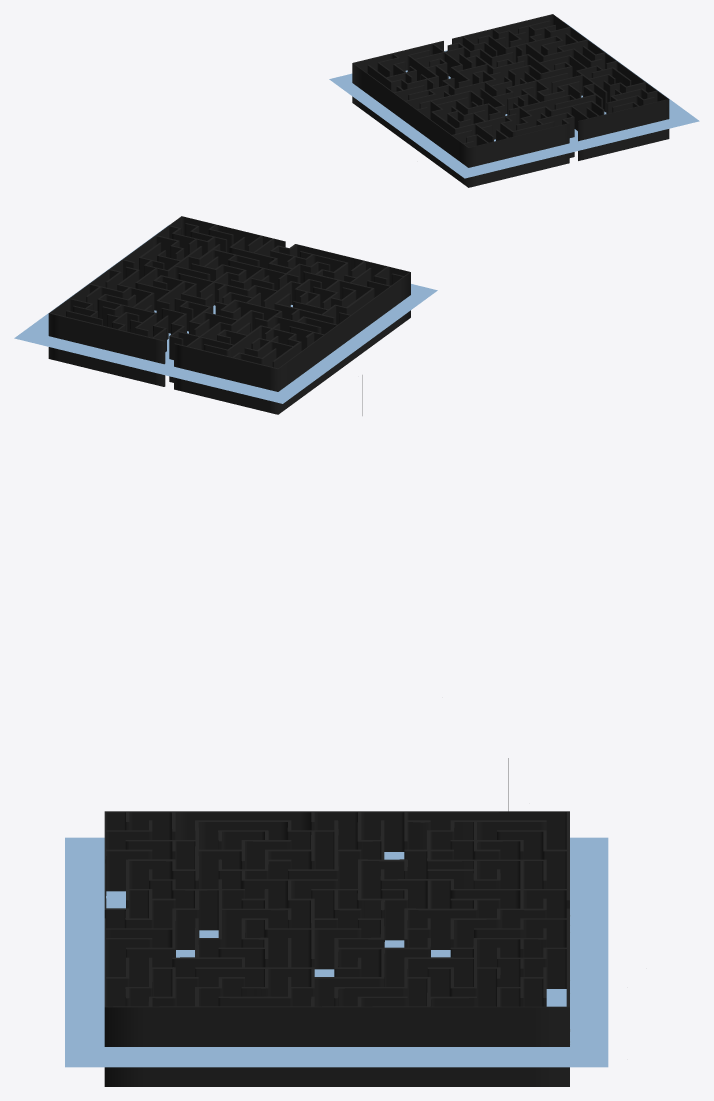
The model's file is Maze4.fbx.
3 renders of one model, top to bottom at view 1: azimuth 30°, elevation 25°; view 2: azimuth 150°, elevation 25°; view 3: azimuth 270°, elevation 25°, orthographic. The views are drawn at different scales.
Parts seen in each view (by area): view 1: Curve, Curve.004, Plane; view 2: Curve, Curve.004, Plane; view 3: Curve.004, Curve, Plane.
Part boxes in pixels (<box>): Curve: <box>352,41,581,187</box>; Curve.004: <box>452,14,669,160</box>; Plane: <box>329,22,699,178</box>; Curve: <box>161,244,410,414</box>; Curve.004: <box>48,216,330,386</box>; Plane: <box>14,225,437,403</box>; Curve.004: <box>104,869,569,1086</box>; Curve: <box>104,811,569,969</box>; Plane: <box>65,837,608,1067</box>.
Bounding box in the file's own units: 613 × 40.61 × 269.
